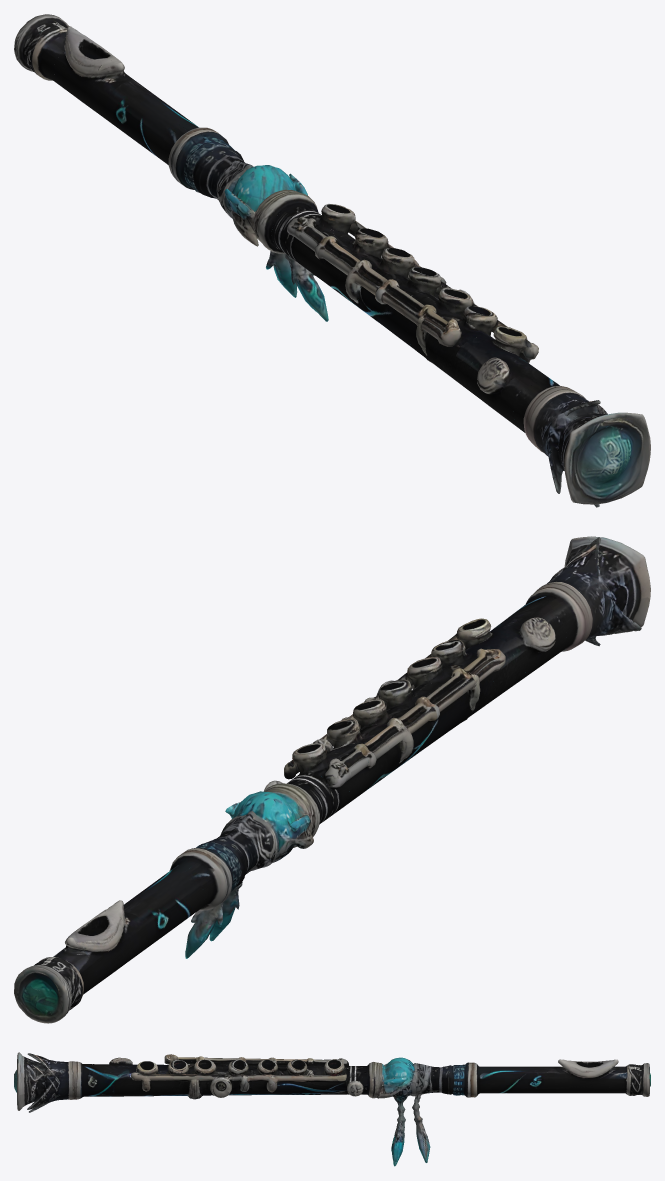
Rendered from MagicFlute.fbx.
The picture shows the model from 3 angles, top to bottom: view 1: azimuth 30°, elevation 25°; view 2: azimuth 150°, elevation 25°; view 3: azimuth 270°, elevation 25°; orthographic projection. The views are drawn at different scales.
Visible parts, largest first — view 1: MagicFlute; view 2: MagicFlute; view 3: MagicFlute.
Boxes of the visible parts, x1,y1,x2,y2 form: MagicFlute: (14, 14, 650, 507); MagicFlute: (14, 536, 650, 1023); MagicFlute: (14, 1052, 650, 1166).
Bounding box in the file's own units: 0.1103 × 0.1828 × 1.08.
1 material, 1 textured.
